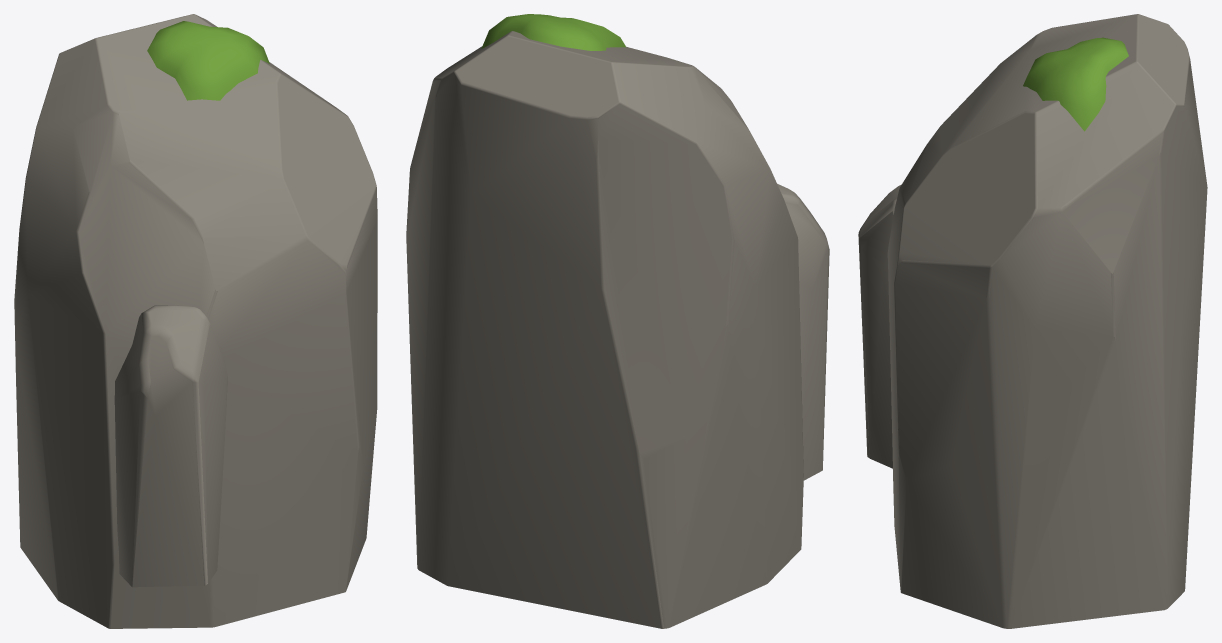
File: rock_b.glb
3 renders of one model, left to right at view 1: azimuth 30°, elevation 25°; view 2: azimuth 150°, elevation 25°; view 3: azimuth 270°, elevation 25°, orthographic. The views are drawn at different scales.
Parts seen in each view (by area): view 1: rock_b; view 2: rock_b; view 3: rock_b.
Boxes of the visible parts, x1=… form: rock_b: x1=14, y1=14, x2=377, y2=628; rock_b: x1=406, y1=14, x2=829, y2=628; rock_b: x1=858, y1=14, x2=1207, y2=628.
Bounding box in the file's own units: 2.09 × 3.24 × 1.98.
